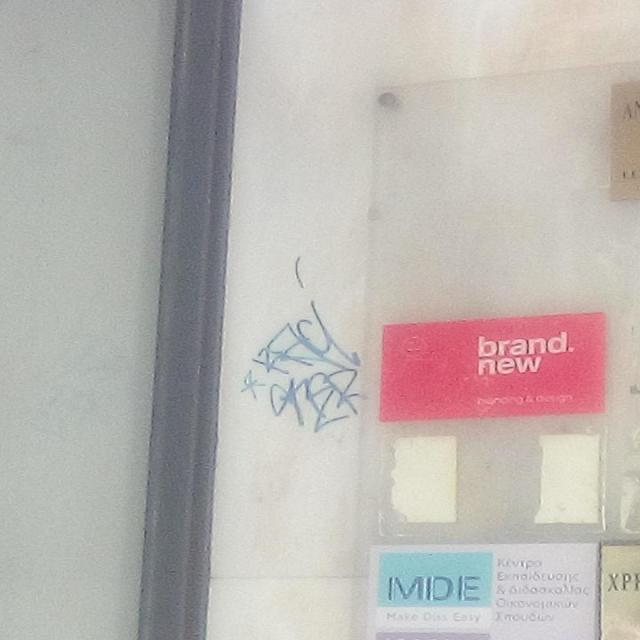nonspitting: (236, 298, 364, 434)
